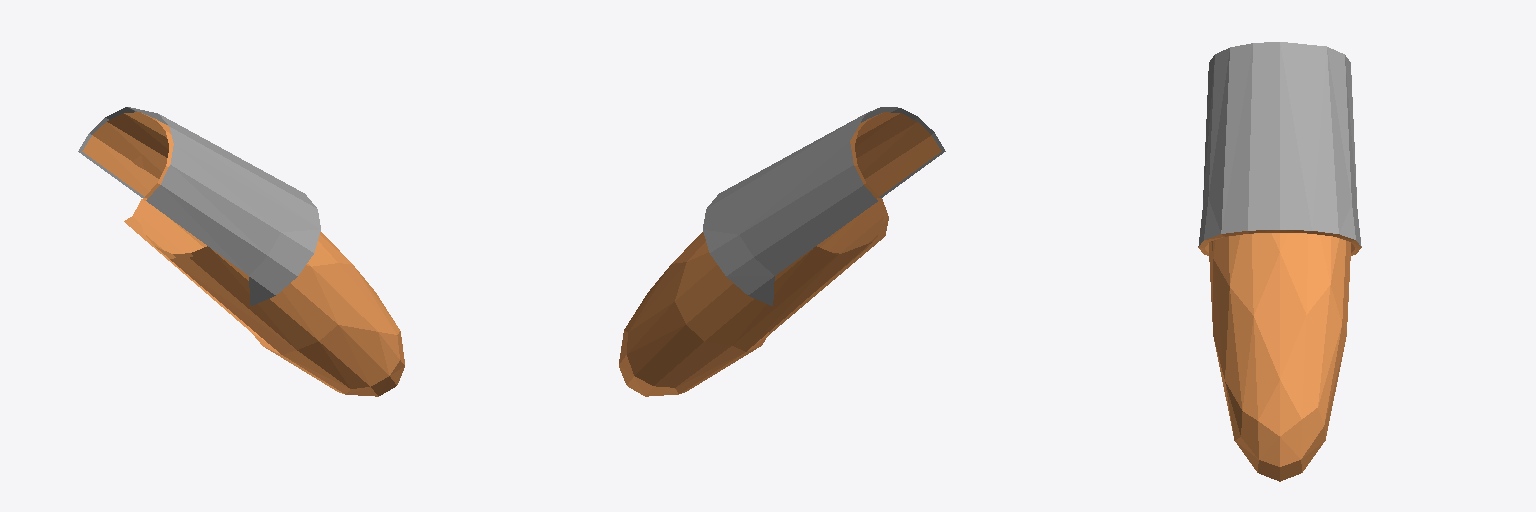
The picture shows the model from 3 angles: view 1: azimuth 30°, elevation 25°; view 2: azimuth 150°, elevation 25°; view 3: azimuth 270°, elevation 25°; orthographic projection.
Visible parts, largest first — view 1: Left Arm; view 2: Left Arm; view 3: Left Arm.
Boxes of the visible parts, box(x1,y1,x2,y2) form: Left Arm: box(78, 107, 404, 396); Left Arm: box(619, 107, 945, 396); Left Arm: box(1198, 42, 1361, 481).
Size of the model in its own units: 1.64 by 1.81 by 0.8062.
Materials: 1 (1 with a texture image).